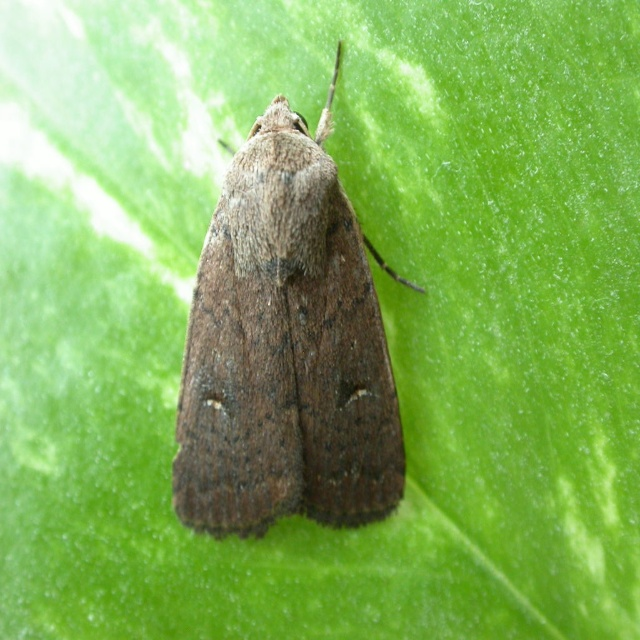Moths and butterflies: (171, 40, 428, 548)
